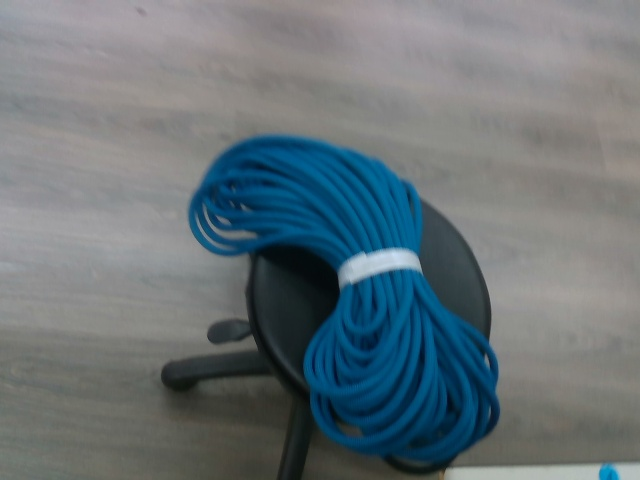rope: (185, 131, 505, 463)
